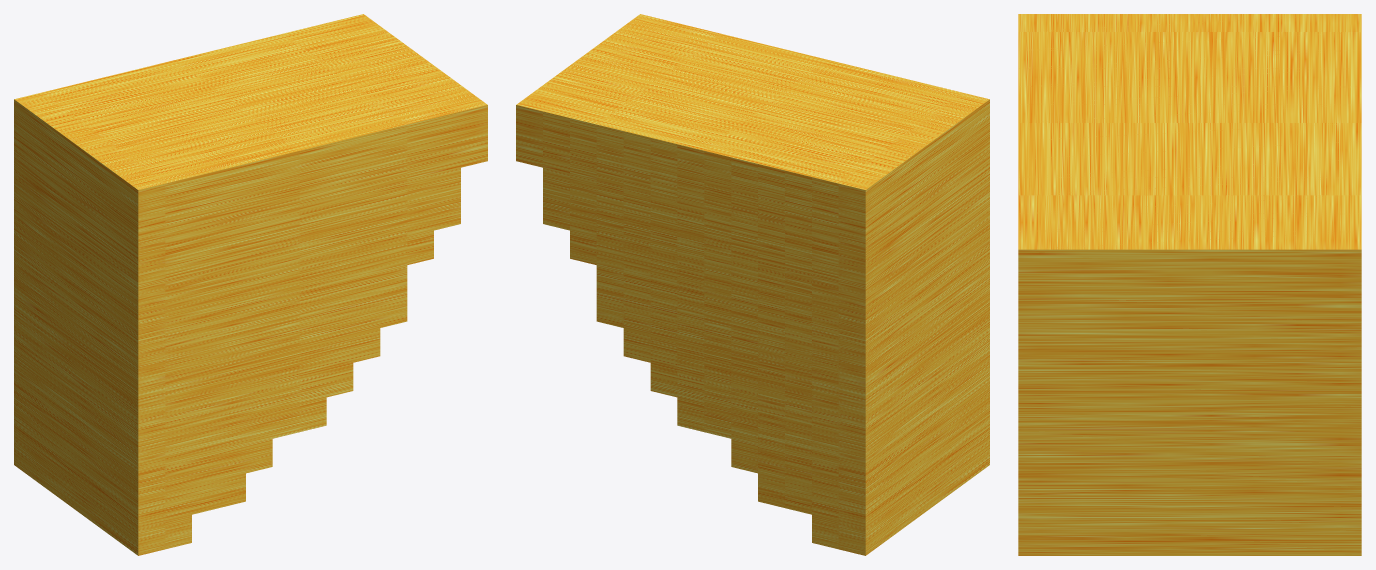
Rendered from tier2_piece_22.obj.
3 views of the same model, side by side, from view 1: azimuth 30°, elevation 25°; view 2: azimuth 150°, elevation 25°; view 3: azimuth 270°, elevation 25° (orthographic). The views are drawn at different scales.
Visible parts, largest first — view 1: tier2_piece_22; view 2: tier2_piece_22; view 3: tier2_piece_22.
Part boxes in pixels (<box>): tier2_piece_22: <box>14,14,487,555</box>; tier2_piece_22: <box>516,14,989,555</box>; tier2_piece_22: <box>1018,14,1361,555</box>.
Bounding box in the file's own units: 0.8125 × 0.8125 × 0.5.
